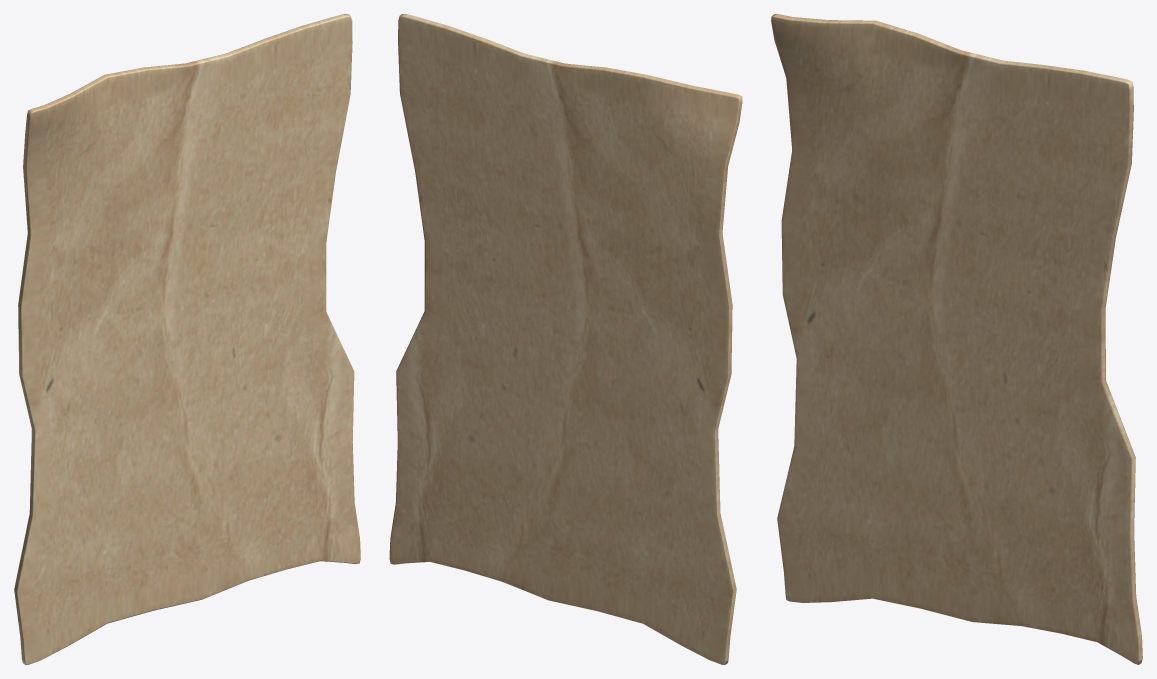
Rendered from cartonB.fbx.
3 views of the same model, side by side, from view 1: azimuth 30°, elevation 25°; view 2: azimuth 150°, elevation 25°; view 3: azimuth 330°, elevation 25° (orthographic). The views are drawn at different scales.
Parts seen in each view (by area): view 1: cartonB; view 2: cartonB; view 3: cartonB.
Part boxes in pixels (x1,y1,x2,y2): cartonB: [14, 14, 360, 664]; cartonB: [389, 14, 742, 664]; cartonB: [771, 14, 1142, 664].
Size of the model in its own units: 138 by 219 by 9.54.
